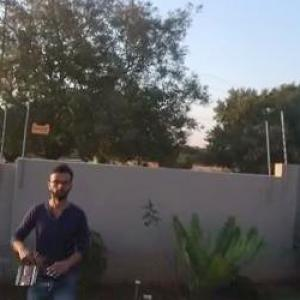follow: (1, 155, 96, 299)
